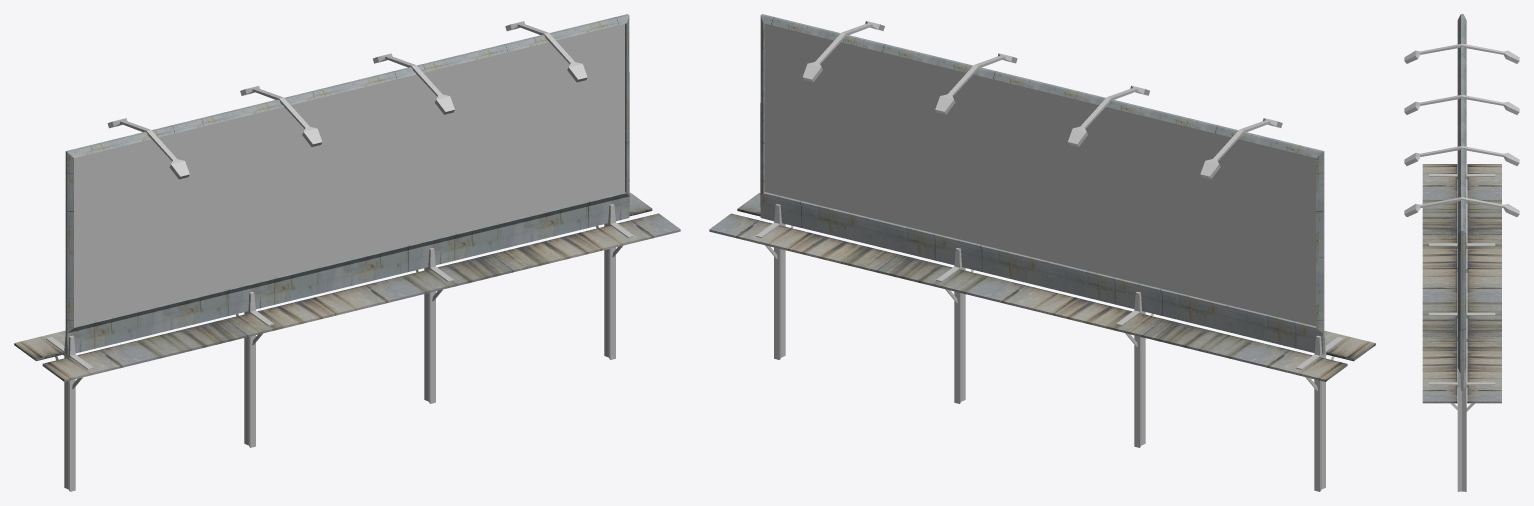
File: Model_BillBoard_05.fbx
3 renders of one model, left to right at view 1: azimuth 30°, elevation 25°; view 2: azimuth 150°, elevation 25°; view 3: azimuth 270°, elevation 25°, orthographic. The views are drawn at different scales.
Parts seen in each view (by area): view 1: BillBoard_05; view 2: BillBoard_05; view 3: BillBoard_05.
Part boxes in pixels (x1,y1,x2,y2): BillBoard_05: [14, 14, 680, 491]; BillBoard_05: [709, 14, 1375, 491]; BillBoard_05: [1404, 14, 1519, 491].
Bounding box in the file's own units: 1857 × 978 × 381.
